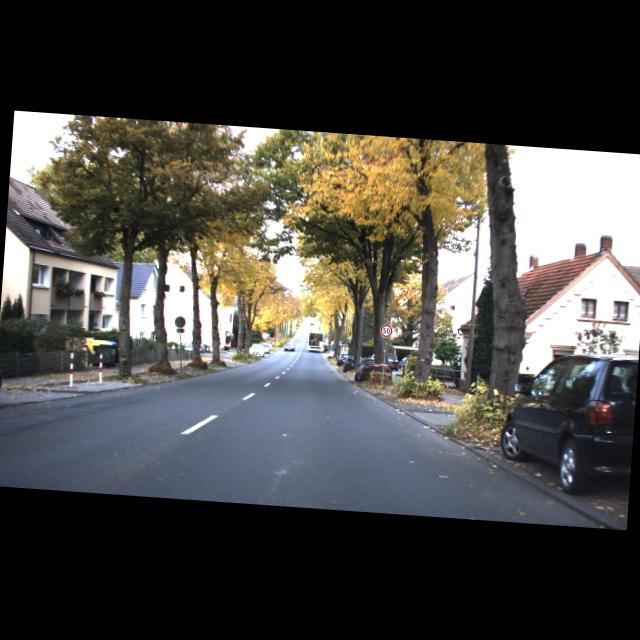prohibitory: (378, 323, 392, 338)
